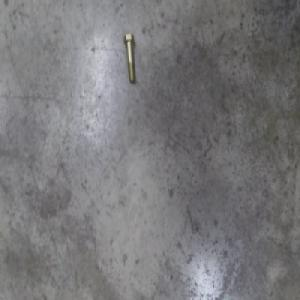Bolt: (122, 33, 136, 82)
